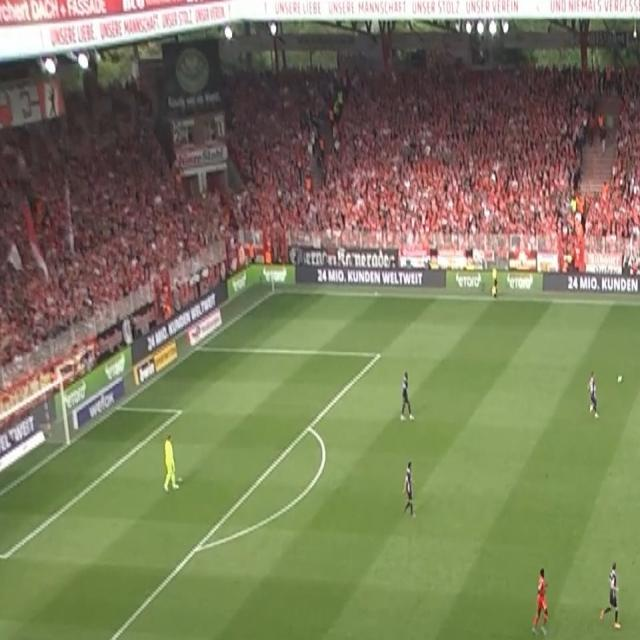ball: (616, 373, 623, 385)
